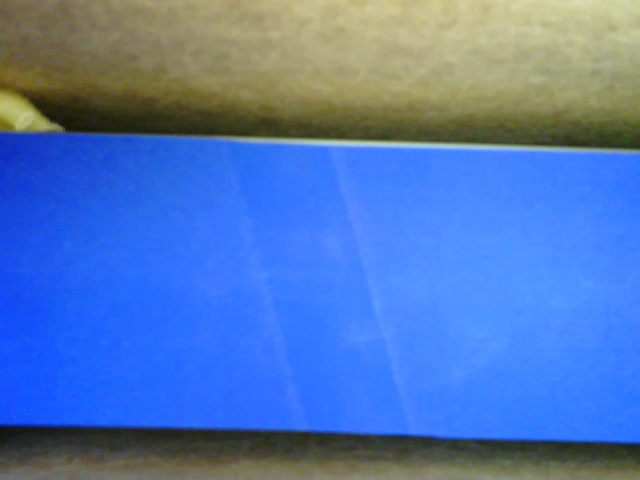elbow: (1, 92, 35, 131)
shell: (1, 91, 66, 135)
